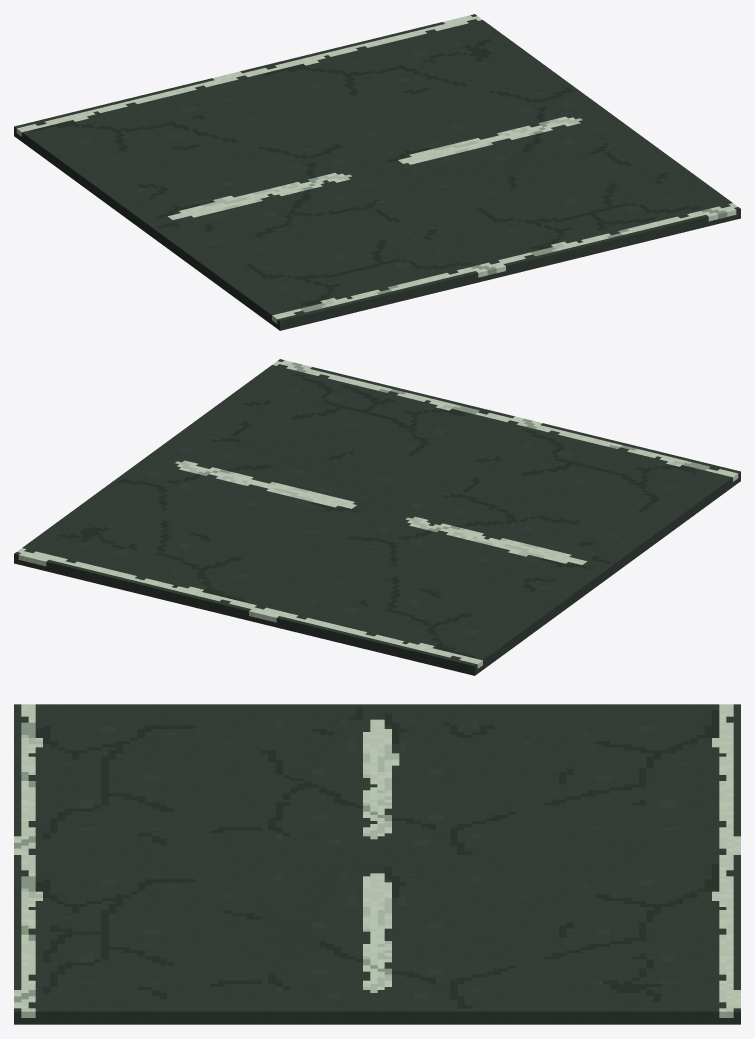
The model's file is road.glb.
The picture shows the model from 3 angles, top to bottom: view 1: azimuth 30°, elevation 25°; view 2: azimuth 150°, elevation 25°; view 3: azimuth 270°, elevation 25°; orthographic projection. The views are drawn at different scales.
Parts seen in each view (by area): view 1: RoadTile-0; view 2: RoadTile-0; view 3: RoadTile-0.
Part boxes in pixels (x1,y1,x2,y2): RoadTile-0: (14, 14, 740, 330); RoadTile-0: (14, 359, 740, 675); RoadTile-0: (14, 704, 740, 1024).
Bounding box in the file's own units: 2 × 0.04 × 2.
1 material, 1 textured.
